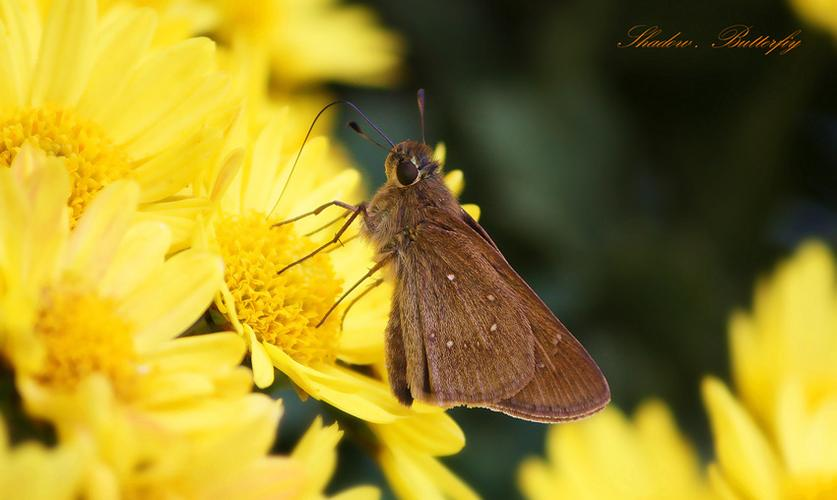Hesperiidae: (276, 86, 616, 427)
